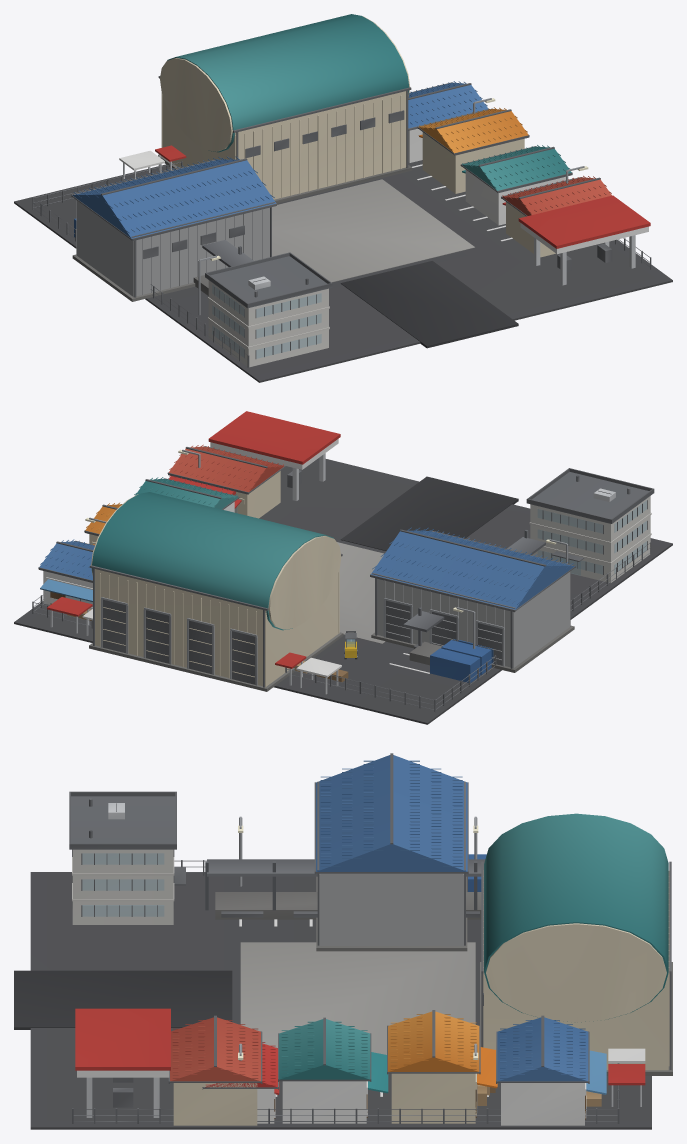
The model's file is Market_P3.fbx.
3 renders of one model, top to bottom at view 1: azimuth 30°, elevation 25°; view 2: azimuth 150°, elevation 25°; view 3: azimuth 270°, elevation 25°, orthographic. The views are drawn at different scales.
Visible parts, largest first — view 1: Market.Pad, Market.WH1, Market.WH2, Market.Office, Market.Fuel, Market.Shop2, Market.Shop1, Market.Shop0, Market.Shop3, Market.Fence, Market.Stalls, Market.Dock; view 2: Market.WH1, Market.Pad, Market.WH2, Market.Office, Market.Fuel, Market.Shop0, Market.Shop3, Market.Stalls, Market.Goods, Market.Fence, Market.Shop1, Market.Dock (+1 smaller); view 3: Market.Pad, Market.WH1, Market.WH2, Market.Office, Market.Shop2, Market.Shop3, Market.Shop1, Market.Shop0, Market.Fuel, Market.Dock, Market.Fence, Market.Stalls (+1 smaller).
Part boxes in pixels (box(x1,y1,x2,y2)): Market.Pad: box(14, 160, 672, 382); Market.WH1: box(158, 14, 412, 203); Market.WH2: box(71, 156, 277, 301); Market.Office: box(205, 252, 332, 367); Market.Fuel: box(518, 195, 650, 285); Market.Shop2: box(417, 107, 529, 193); Market.Shop1: box(460, 145, 572, 225); Market.Shop0: box(501, 175, 611, 257); Market.Shop3: box(408, 81, 488, 162); Market.Fence: box(32, 161, 651, 367); Market.Stalls: box(119, 145, 186, 179); Market.Dock: box(193, 240, 253, 295); Market.WH1: box(89, 492, 343, 691); Market.Pad: box(14, 458, 672, 724); Market.WH2: box(370, 527, 575, 672); Market.Office: box(526, 468, 654, 583); Market.Fuel: box(208, 411, 340, 500); Market.Shop0: box(167, 444, 285, 518); Market.Shop3: box(38, 539, 94, 609); Market.Stalls: box(47, 597, 348, 694); Market.Goods: box(430, 639, 493, 682); Market.Fence: box(32, 542, 651, 711); Market.Shop1: box(134, 477, 239, 512); Market.Dock: box(403, 530, 545, 665); Market.Pad: box(14, 872, 651, 1129); Market.WH1: box(480, 813, 672, 1075); Market.WH2: box(314, 753, 468, 951); Market.Office: box(69, 791, 185, 924); Market.Shop2: box(387, 1010, 497, 1123); Market.Shop3: box(496, 1015, 606, 1125); Market.Shop1: box(278, 1017, 388, 1123); Market.Shop0: box(168, 1015, 279, 1125); Market.Fuel: box(75, 1008, 170, 1117); Market.Dock: box(205, 859, 485, 919); Market.Fence: box(72, 860, 619, 1123); Market.Stalls: box(586, 1048, 645, 1106).
Size of the model in its own units: 7474 by 2041 by 7850.
